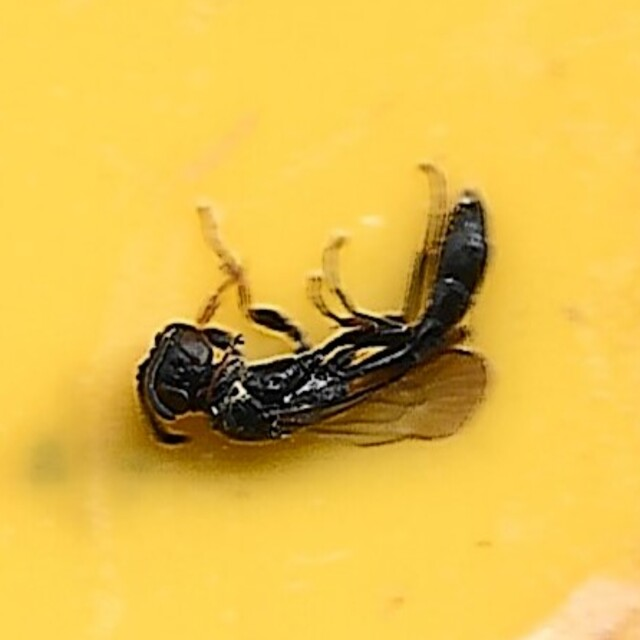Hymenoptera: (143, 173, 497, 467)
